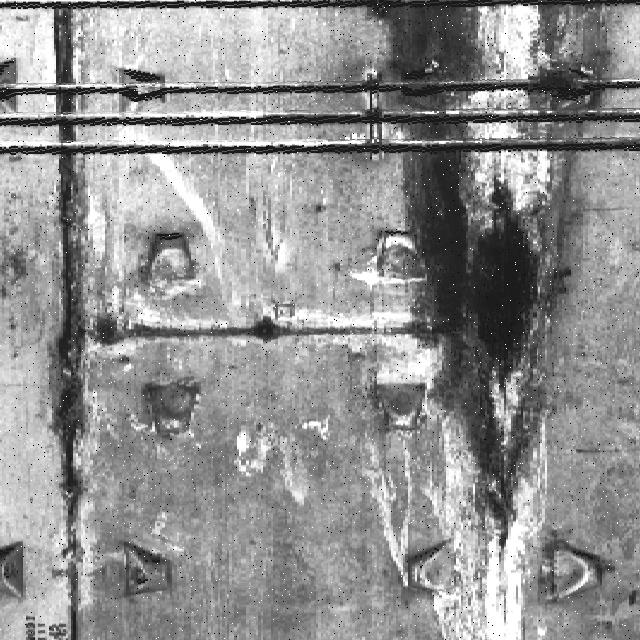leakage: (364, 1, 617, 640), (34, 1, 118, 606)
